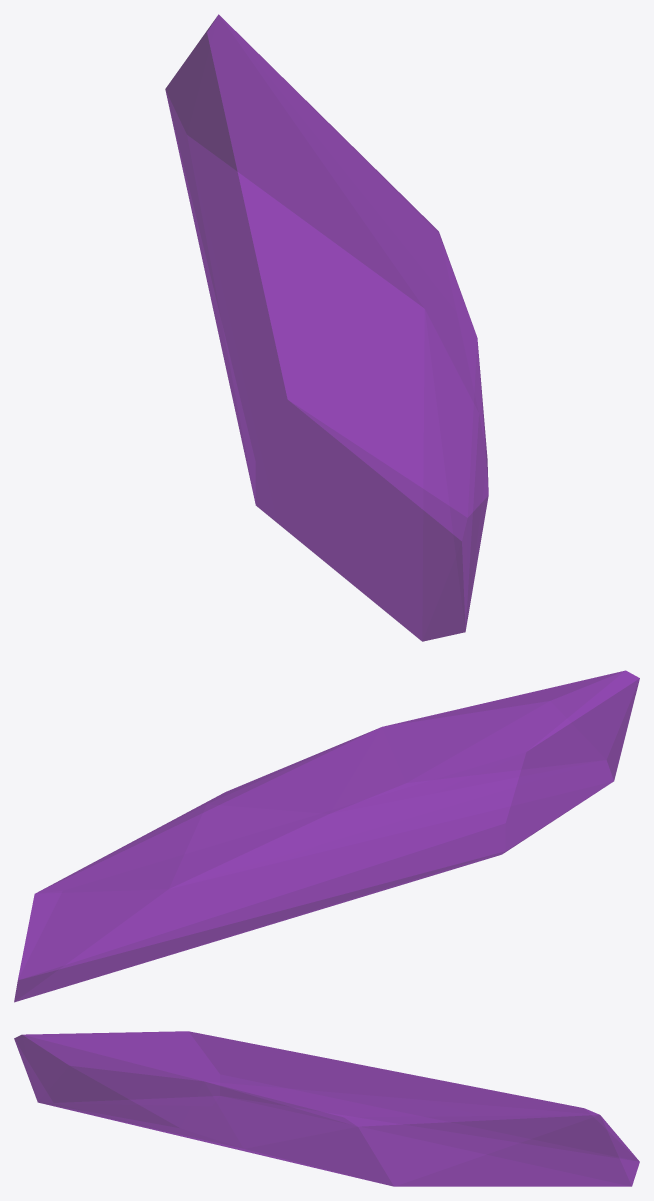
3 renders of one model, top to bottom at view 1: azimuth 30°, elevation 25°; view 2: azimuth 150°, elevation 25°; view 3: azimuth 270°, elevation 25°, orthographic. The views are drawn at different scales.
Parts seen in each view (by area): view 1: Shape_IndexedFaceSet.036_Shape_IndexedFaceSet.1404; view 2: Shape_IndexedFaceSet.036_Shape_IndexedFaceSet.1404; view 3: Shape_IndexedFaceSet.036_Shape_IndexedFaceSet.1404.
Part boxes in pixels (x1,y1,x2,y2): Shape_IndexedFaceSet.036_Shape_IndexedFaceSet.1404: (165,14,488,641); Shape_IndexedFaceSet.036_Shape_IndexedFaceSet.1404: (14,670,639,1002); Shape_IndexedFaceSet.036_Shape_IndexedFaceSet.1404: (14,1031,639,1186).
Size of the model in its own units: 0.061 by 0.0244 by 0.1927.
